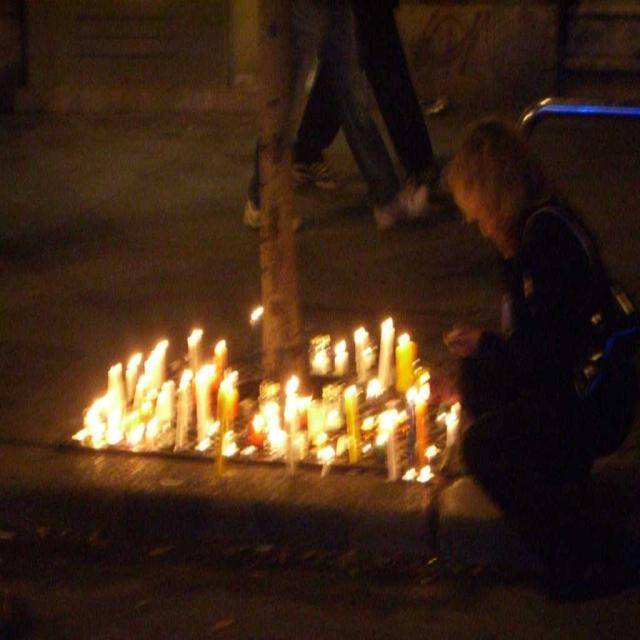Fire: (87, 310, 466, 464)
